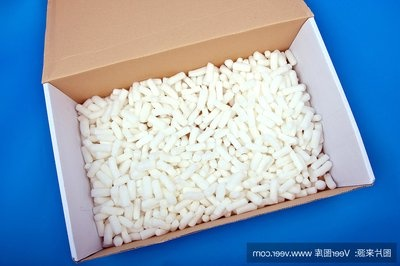5/可回收垃圾/泡沫: (72, 49, 340, 246)
